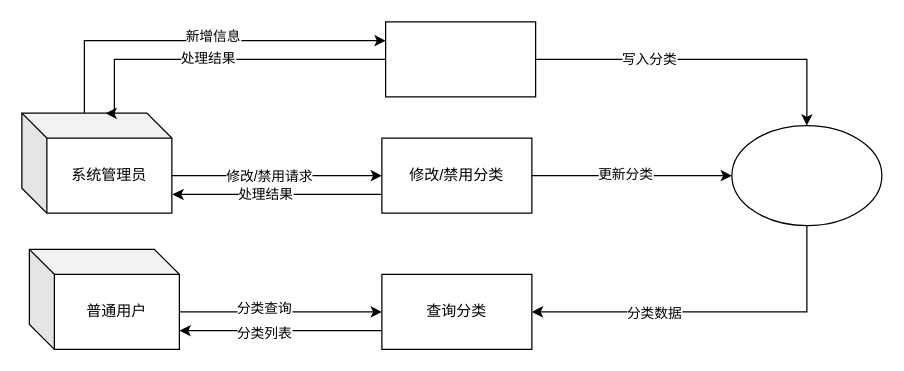
Image size: 904x371. Some labels were removed from this diagram. Here are the shapes that lost their labels. From the top down, the centre of each, then its label:
At (460,59): "新增分类".
At (806,175): "分类信息表".
